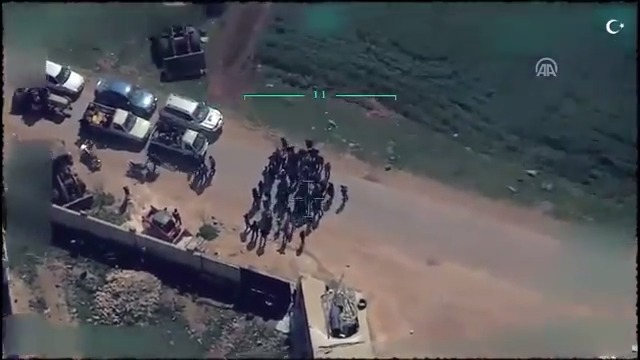arac: (77, 100, 150, 139), (159, 90, 226, 130), (11, 86, 93, 116), (96, 76, 164, 111), (149, 125, 221, 158), (73, 132, 108, 173), (42, 61, 88, 92), (121, 160, 169, 184)
insan: (247, 219, 262, 241), (337, 182, 350, 206), (173, 203, 185, 226), (297, 229, 308, 252)
